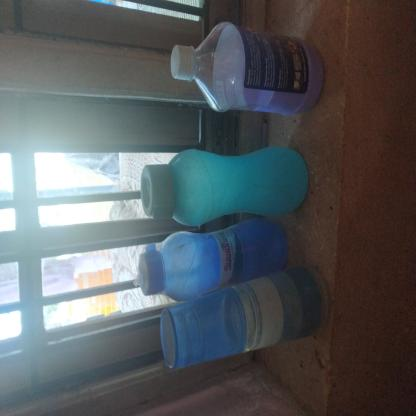bottle: (34, 212, 114, 416), (143, 187, 206, 413), (227, 228, 299, 416), (85, 182, 151, 384)
